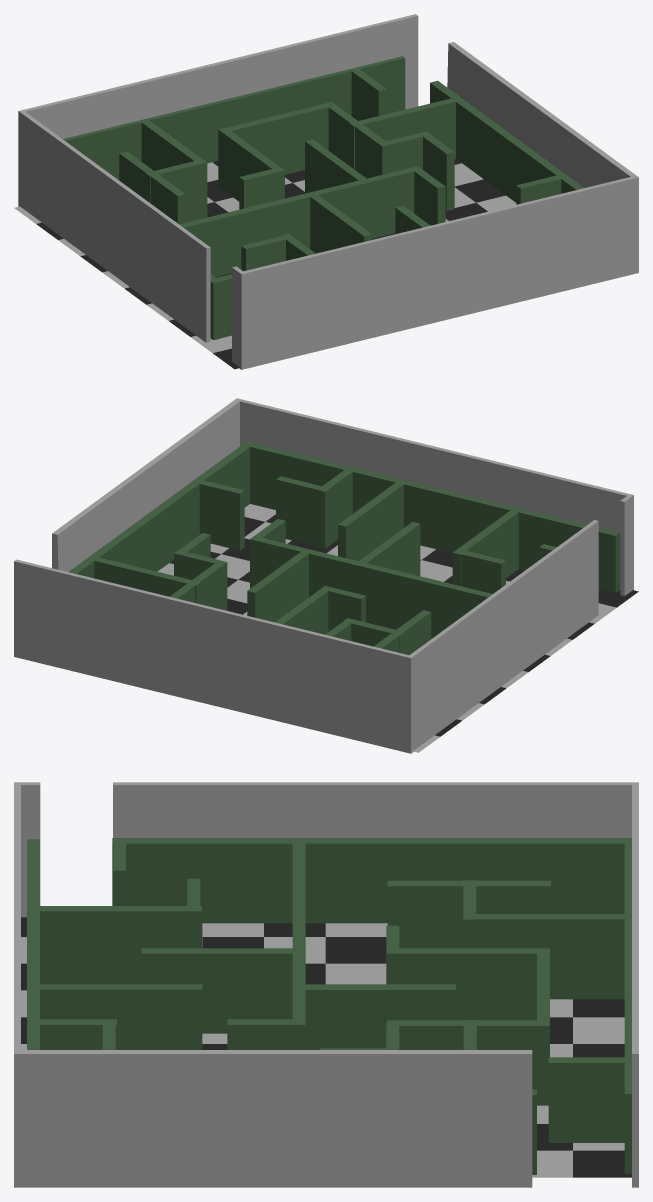
Rendered from room3.fbx.
3 renders of one model, top to bottom at view 1: azimuth 30°, elevation 25°; view 2: azimuth 150°, elevation 25°; view 3: azimuth 270°, elevation 25°, orthographic. The views are drawn at different scales.
Parts seen in each view (by area): view 1: walls_geo, pCube18, pCube33, pCube21, floor_geo, pCube27, pCube22, pCube24, pCube34, pCube36, pCube28, pCube30 (+12 smaller); view 2: walls_geo, pCube19, pCube33, pCube21, floor_geo, pCube37, pCube34, pCube40, pCube39, pCube41, pCube22, pCube38 (+9 smaller); view 3: walls_geo, pCube20, floor_geo, pCube41, pCube36, pCube30, pCube37, pCube28, pCube34, pCube32, pCube23, pCube24 (+9 smaller).
Part boxes in pixels (x1,y1,x2,y2): walls_geo: (18,14,638,369); pCube18: (63,56,405,180); pCube33: (179,166,418,276); pCube21: (430,80,583,202); floor_geo: (14,159,516,369); pCube27: (227,104,333,174); pCube22: (349,97,459,169); pCube24: (324,102,390,178); pCube34: (305,139,371,233); pCube36: (307,192,372,253); pCube28: (218,127,279,201); pCube30: (141,120,206,219); walls_geo: (14,398,633,753); pCube19: (245,442,620,592); pCube33: (250,536,492,638); pCube21: (68,441,254,578); floor_geo: (158,504,638,752); pCube37: (338,482,403,561); pCube34: (247,548,312,622); pCube40: (199,480,244,550); pCube39: (276,476,321,546); pCube41: (452,510,518,585); pCube22: (94,557,200,604); pCube38: (317,470,352,548); walls_geo: (14,782,638,1187); pCube20: (112,838,631,923); floor_geo: (21,917,631,1177); pCube41: (39,906,201,984); pCube36: (141,948,304,1033); pCube30: (463,914,626,999); pCube37: (40,984,202,1049); pCube28: (387,948,549,1020); pCube34: (292,984,455,1049); pCube32: (387,880,550,948); pCube23: (548,1057,627,1142); pCube24: (387,1020,549,1105).
Size of the model in its own units: 16.53 by 3.75 by 15.84.
